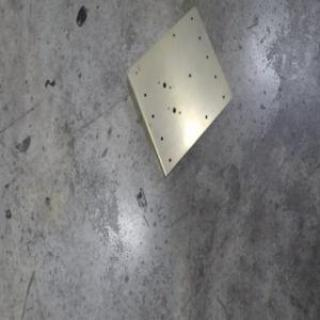MetalSheettrack_idkeyframe: (124, 4, 232, 180)
